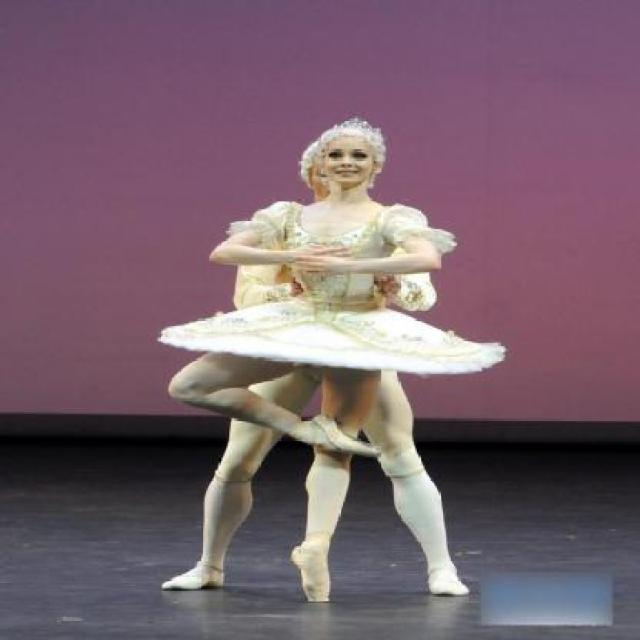Person: (172, 84, 502, 611)
